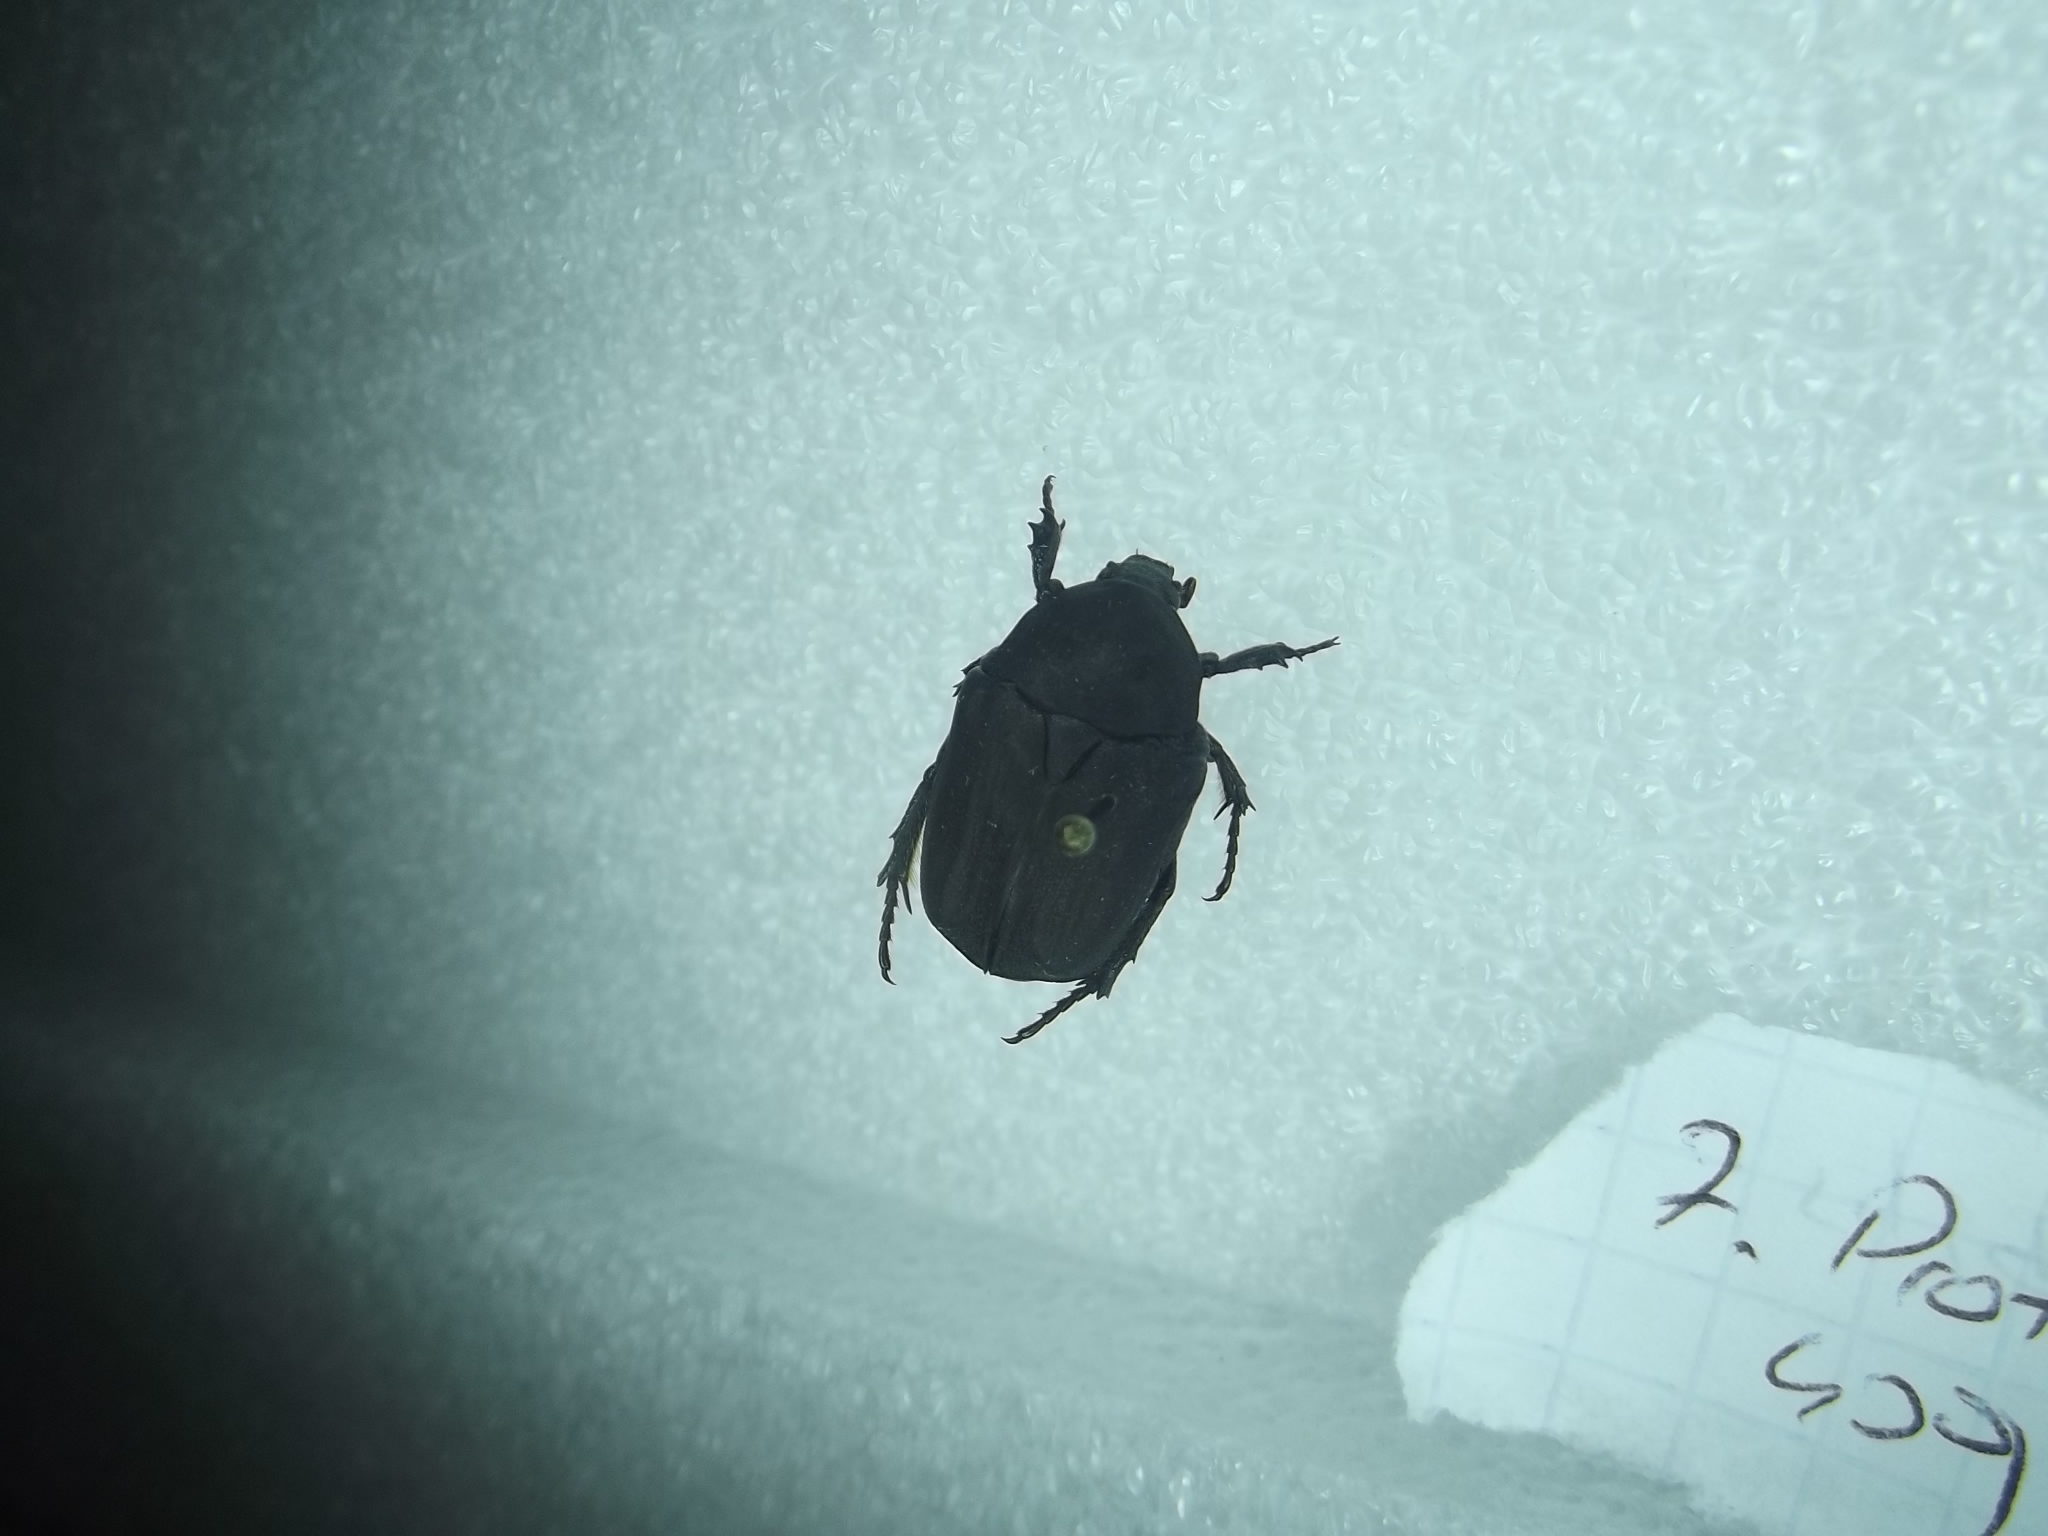Protaetia_morio_morio: (856, 460, 1367, 1042)
